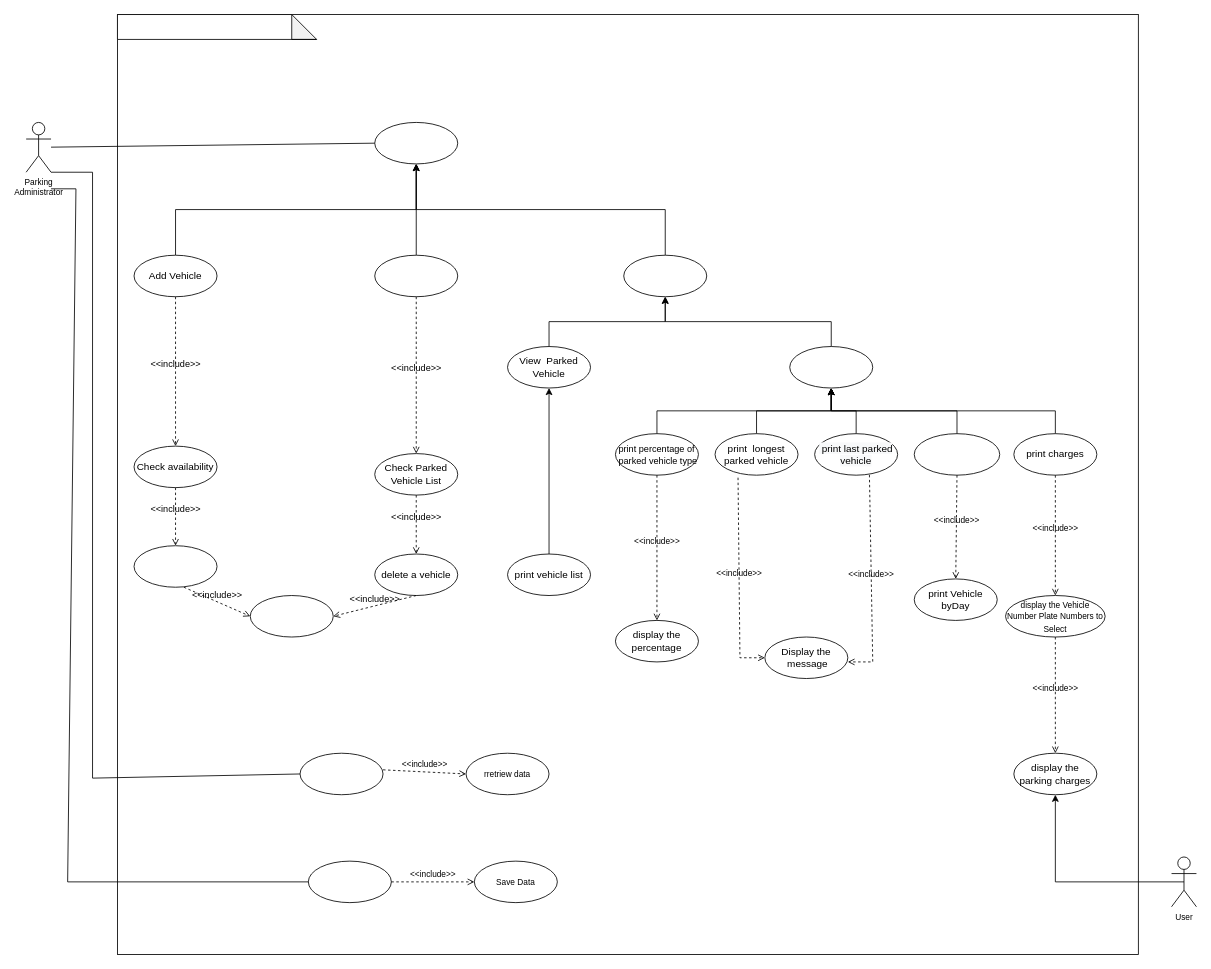
Some shapes in this 1211 by 969 pixel diagram are drawn without their labels. The shapes that lost their labels are listed below. From the top down, each one's centre as x and y in pixels, then its label:
At point (217, 26): "CarPark Management System".
At point (416, 143): "Manage Vehicle".
At point (416, 275): "Delete Vehicle".
At point (665, 275): "View Vehicle".
At point (831, 367): "view statistics".
At point (956, 454): "Search vehicle byDay".
At point (175, 566): "Add a vehicle".
At point (291, 616): "Update Slot".
At point (341, 773): "Initiate system".
At point (349, 881): "close system".
